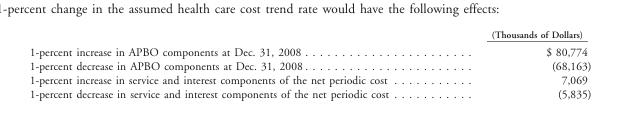table: (28, 29, 590, 100)
table column: (28, 29, 439, 100), (439, 29, 590, 100)
table column header: (28, 29, 590, 42)
table row: (28, 42, 590, 58), (28, 58, 590, 72), (28, 72, 590, 86), (28, 86, 590, 100), (28, 29, 590, 42)
